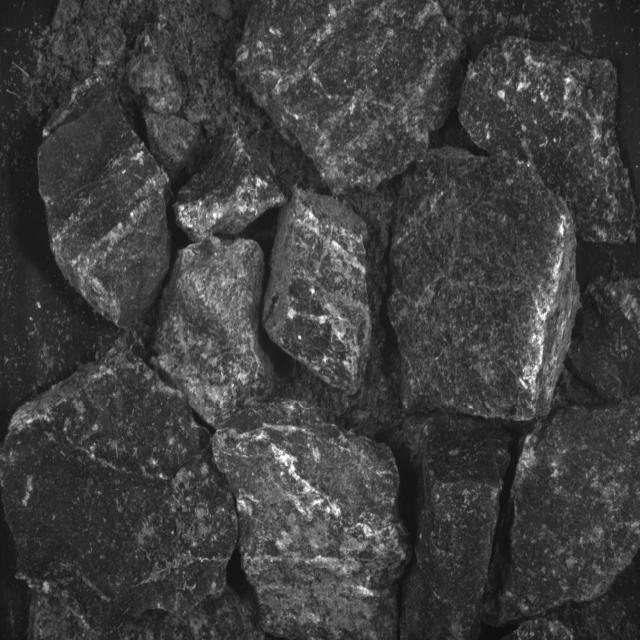Stones: (1, 346, 262, 640), (390, 150, 580, 422), (214, 403, 407, 640), (237, 1, 466, 196), (460, 37, 636, 243), (484, 398, 640, 627), (39, 77, 171, 328), (399, 415, 511, 640), (155, 238, 275, 428), (264, 189, 372, 395), (175, 132, 286, 243), (569, 279, 640, 401), (145, 112, 201, 183), (129, 53, 185, 115), (504, 616, 575, 640)
